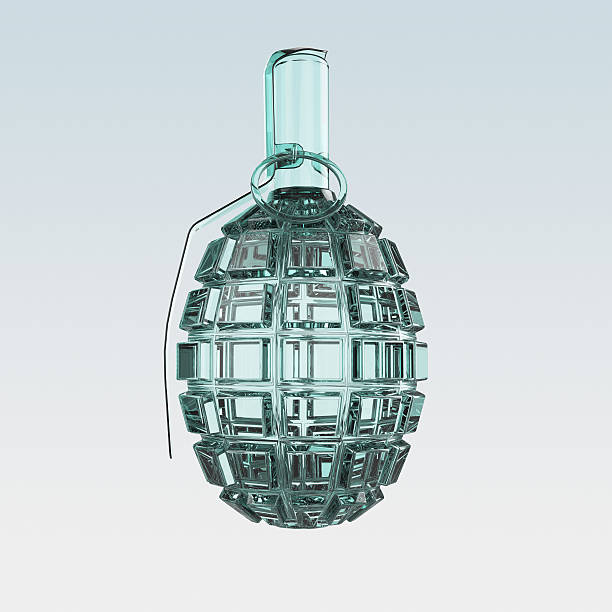e1: (157, 45, 428, 524)
